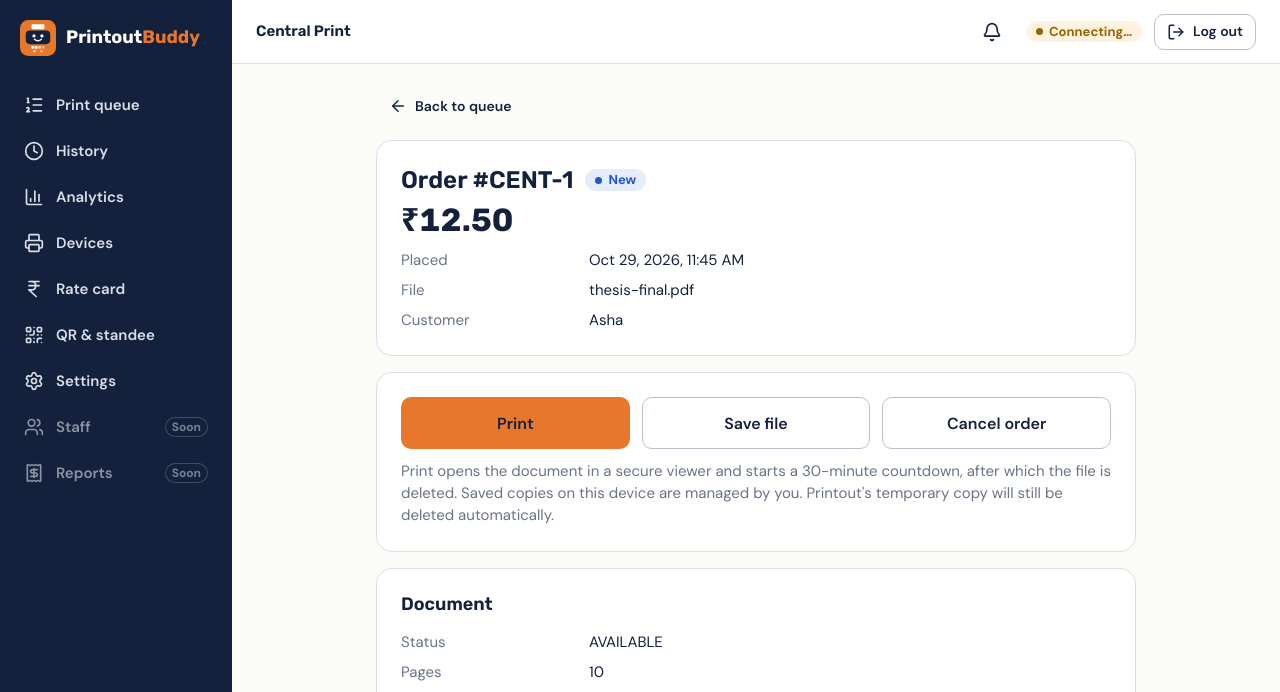
Test: order detail › handles INVALID_STATUS_TRANSITION from Print with a readable banner
Click the button "Print": (515, 423) [401, 397, 630, 449]
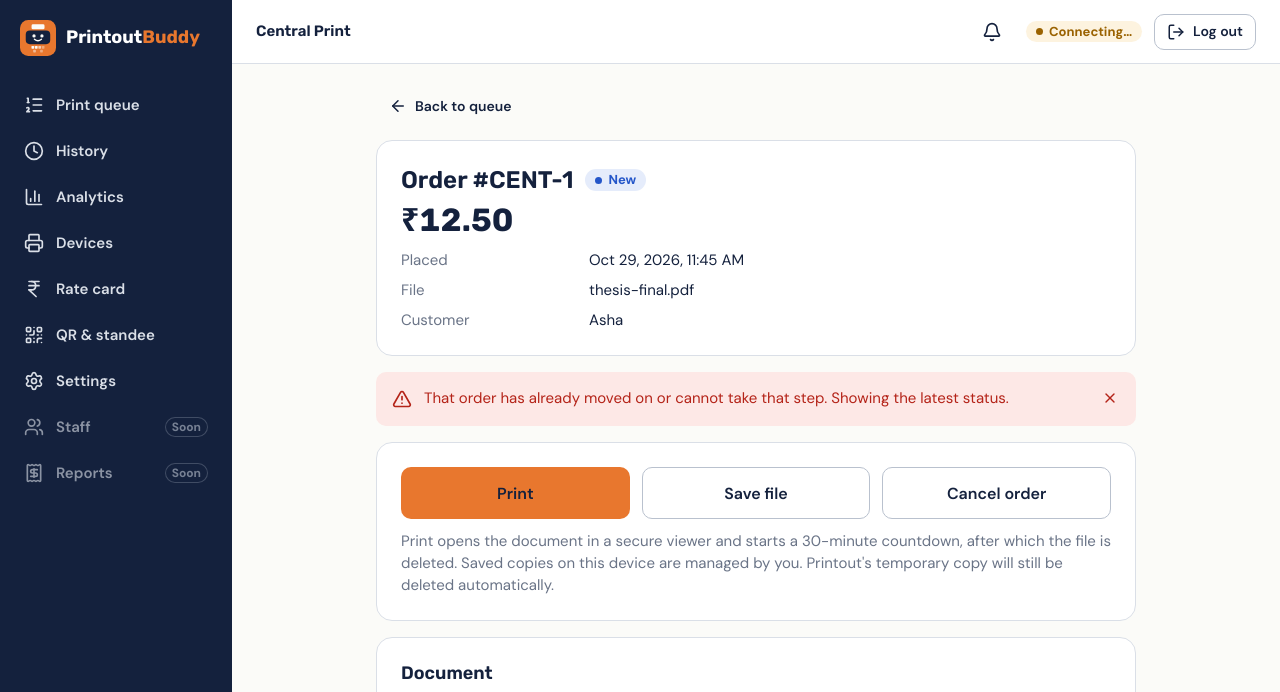
Now the 2nd message shows "already moved on", box [424, 388, 1009, 408]
